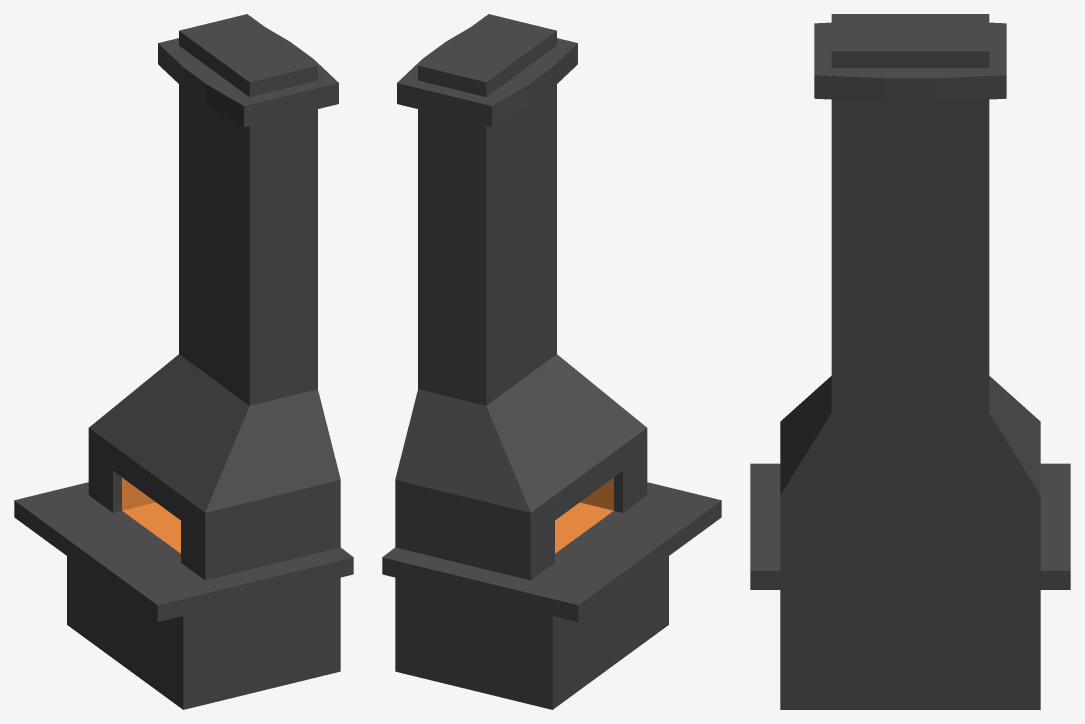
Rendered from Smithworkshop_furnace.fbx.
The picture shows the model from 3 angles, left to right: view 1: azimuth 30°, elevation 25°; view 2: azimuth 150°, elevation 25°; view 3: azimuth 270°, elevation 25°; orthographic projection. The views are drawn at different scales.
Visible parts, largest first — view 1: Furnace; view 2: Furnace; view 3: Furnace.
Boxes of the visible parts, x1,y1,x2,y2 form: Furnace: (14, 14, 353, 709); Furnace: (382, 14, 721, 709); Furnace: (750, 14, 1070, 709).
Bounding box in the file's own units: 214 × 558 × 246.
